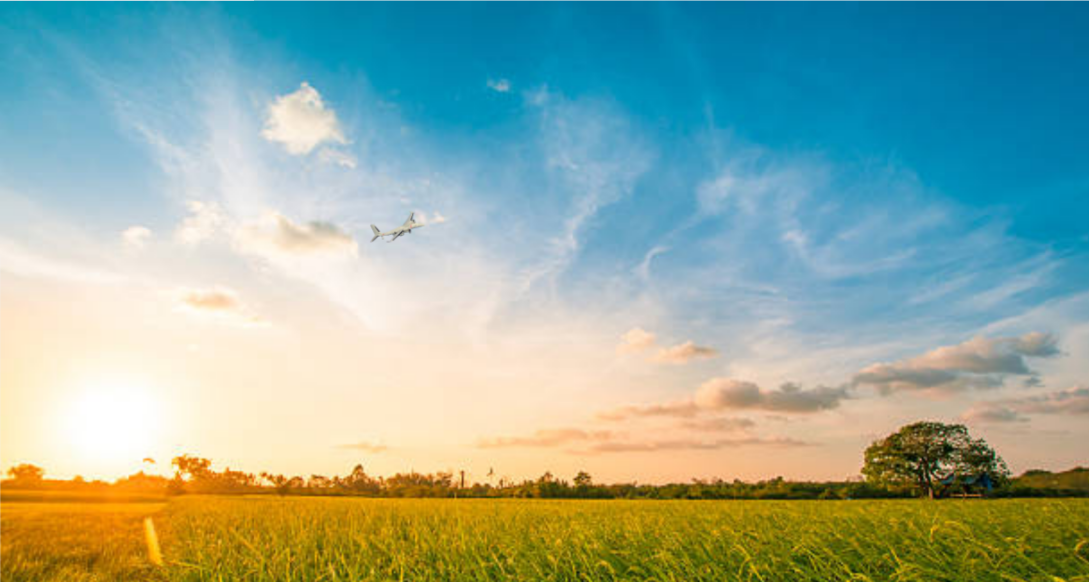military drone: (369, 211, 425, 242)
